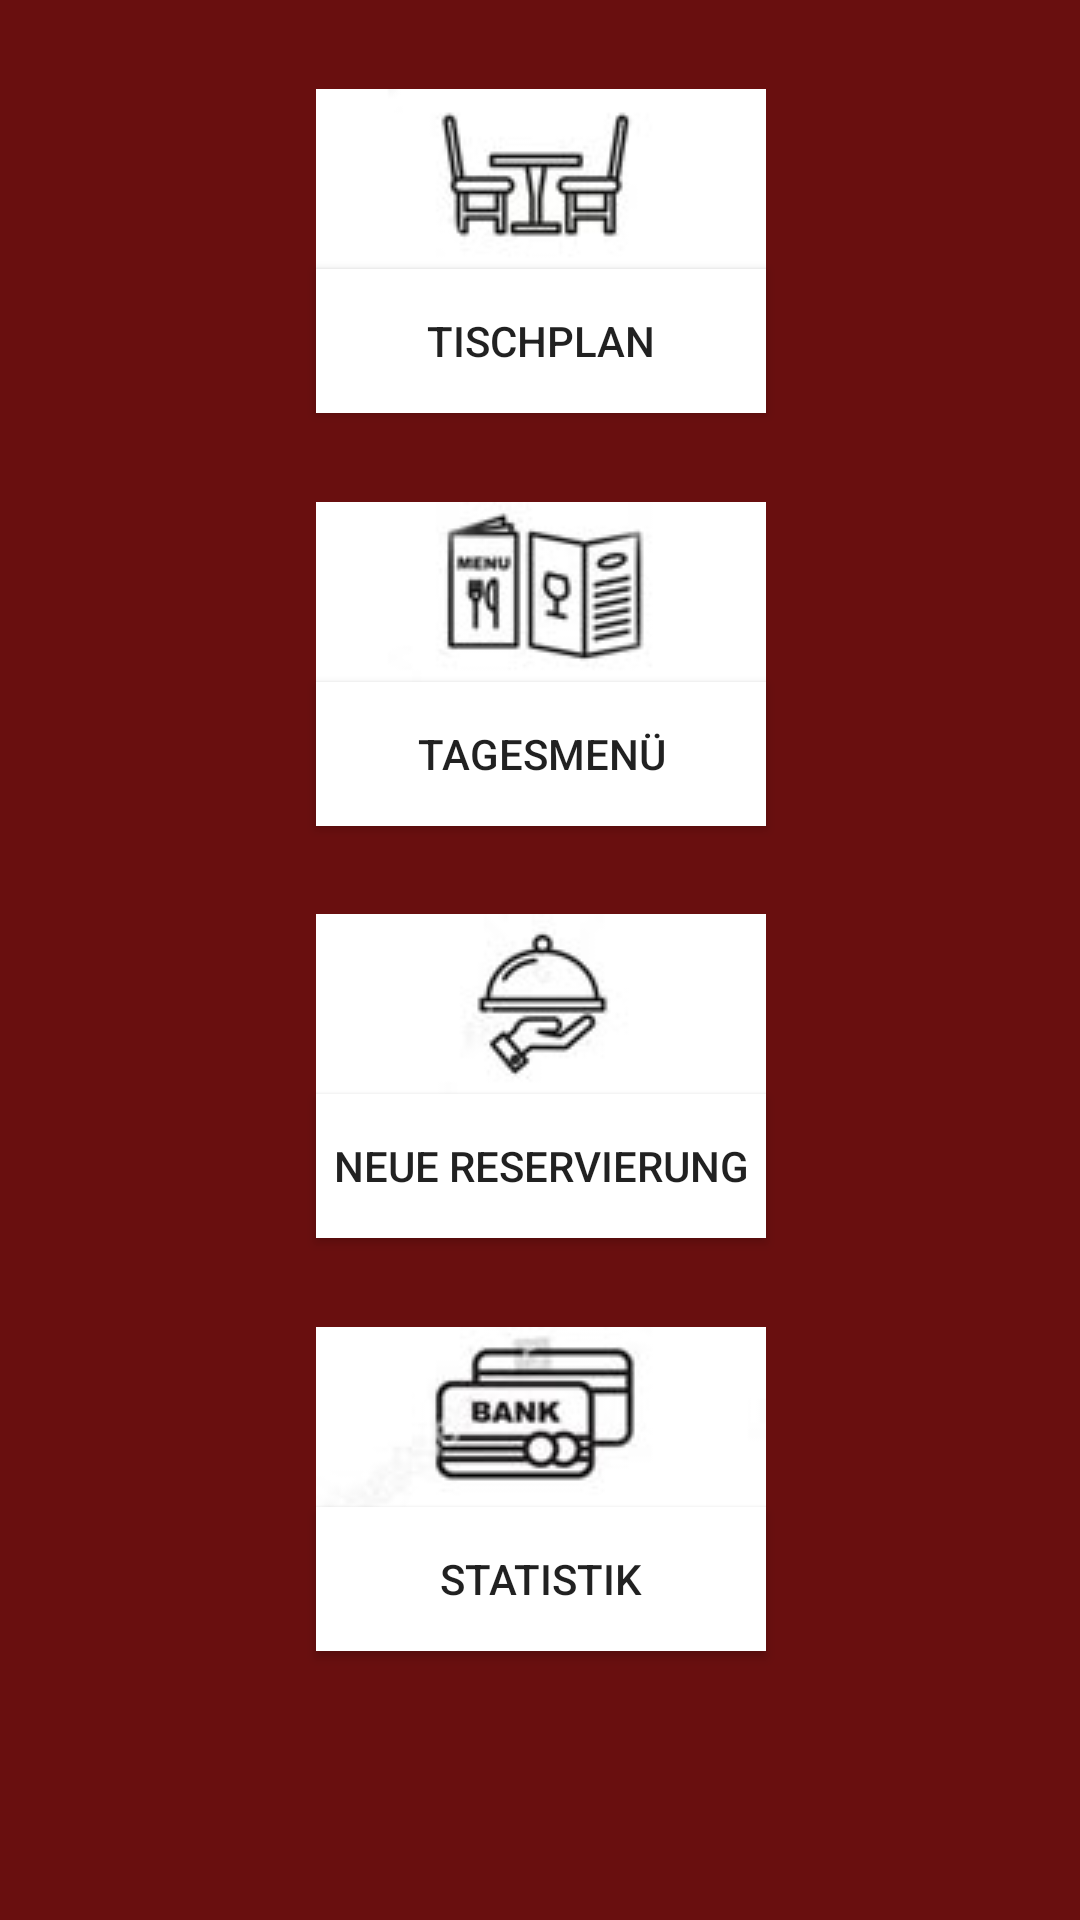

Screen size 1080*1920. Icon name, then its center in pixels as [x,y]:
seats: [535,175]
